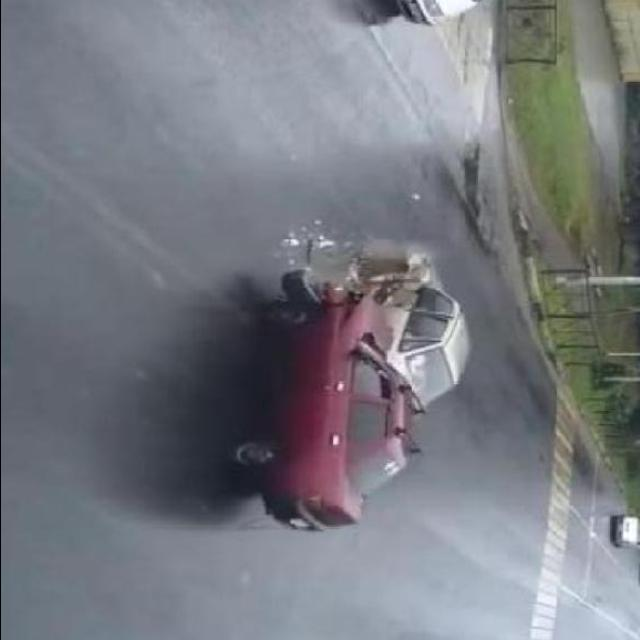accident: (287, 253, 469, 393)
